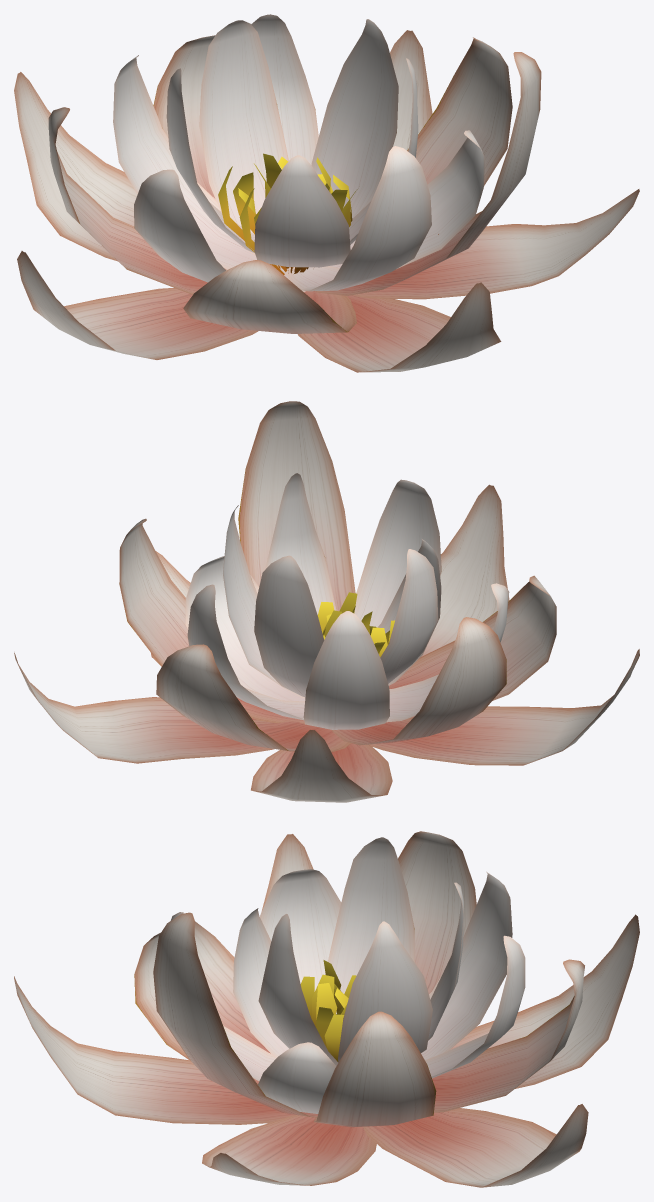
File: Lily_Flower.glb
3 views of the same model, one above another, from view 1: azimuth 30°, elevation 25°; view 2: azimuth 150°, elevation 25°; view 3: azimuth 270°, elevation 25° (orthographic). The views are drawn at different scales.
Visible parts, largest first — view 1: Lily_Flower; view 2: Lily_Flower; view 3: Lily_Flower.
Part boxes in pixels (x1,y1,x2,y2): Lily_Flower: [14, 14, 639, 372]; Lily_Flower: [14, 401, 639, 802]; Lily_Flower: [14, 831, 639, 1187].
Bounding box in the file's own units: 1.29 × 0.5559 × 1.27.
1 material, 1 textured.
